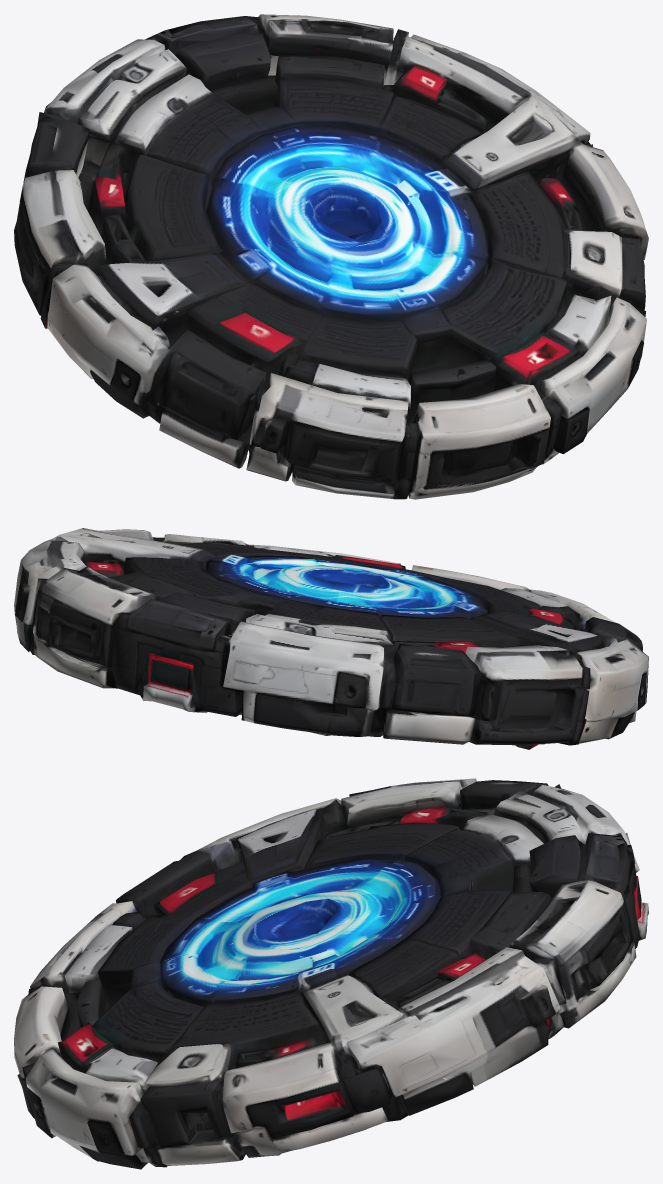
3 views of the same model, one above another, from view 1: azimuth 30°, elevation 25°; view 2: azimuth 150°, elevation 25°; view 3: azimuth 270°, elevation 25° (orthographic).
Parts seen in each view (by area): view 1: tripo_node_a99a4f4d-5fab-48f1-b6b7-31c649c425da; view 2: tripo_node_a99a4f4d-5fab-48f1-b6b7-31c649c425da; view 3: tripo_node_a99a4f4d-5fab-48f1-b6b7-31c649c425da.
Part boxes in pixels (left/top/right/bottom): tripo_node_a99a4f4d-5fab-48f1-b6b7-31c649c425da: left=14, top=14, right=648, bottom=499; tripo_node_a99a4f4d-5fab-48f1-b6b7-31c649c425da: left=14, top=528, right=648, bottom=749; tripo_node_a99a4f4d-5fab-48f1-b6b7-31c649c425da: left=14, top=778, right=648, bottom=1169.
Bounding box in the file's own units: 0.9798 × 0.4328 × 0.9735.
1 material, 1 textured.
